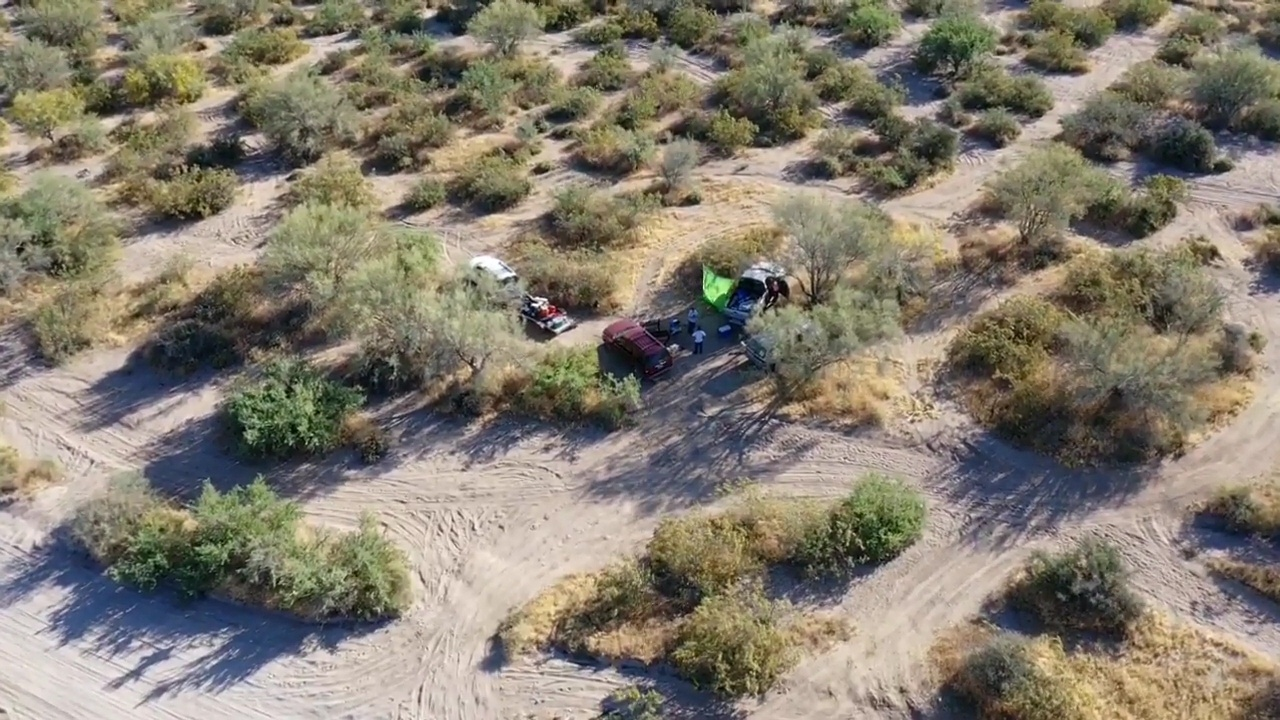araba: (599, 307, 673, 379), (467, 249, 517, 301)
insan: (686, 326, 708, 357), (687, 304, 702, 328)
